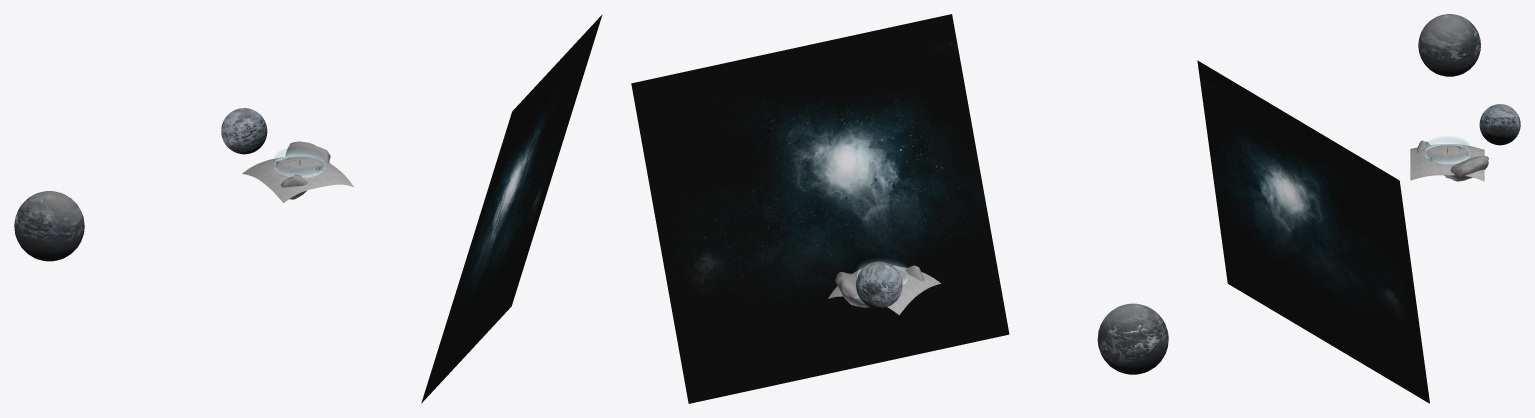
The model's file is space-transformed.glb.
3 renders of one model, left to right at view 1: azimuth 30°, elevation 25°; view 2: azimuth 150°, elevation 25°; view 3: azimuth 270°, elevation 25°, orthographic. The views are drawn at different scales.
Visible parts, largest first — view 1: nebula, smallPlanet, ground, BackPlanet, atmosphericGradient, Rock_5.042; view 2: nebula, smallPlanet, BackPlanet, ground, Rock_5.042; view 3: nebula, smallPlanet, ground, BackPlanet, atmosphericGradient, Rock_5.042.
Boxes of the visible parts, left/top/right/bottom form: nebula: left=421, top=14, right=602, bottom=403; smallPlanet: left=14, top=191, right=84, bottom=261; ground: left=242, top=156, right=353, bottom=202; BackPlanet: left=221, top=108, right=267, bottom=154; atmosphericGradient: left=274, top=148, right=325, bottom=177; Rock_5.042: left=285, top=141, right=330, bottom=162; nebula: left=631, top=14, right=1009, bottom=403; smallPlanet: left=1097, top=303, right=1168, bottom=374; BackPlanet: left=856, top=261, right=902, bottom=308; ground: left=828, top=265, right=940, bottom=314; Rock_5.042: left=835, top=272, right=869, bottom=307; nebula: left=1197, top=60, right=1429, bottom=403; smallPlanet: left=1418, top=14, right=1480, bottom=76; ground: left=1410, top=144, right=1484, bottom=181; BackPlanet: left=1479, top=104, right=1520, bottom=145; atmosphericGradient: left=1425, top=138, right=1470, bottom=164; Rock_5.042: left=1444, top=155, right=1488, bottom=181.
Bounding box in the file's own units: 1171 × 649 × 662.
Materials: 8 (7 with a texture image).
